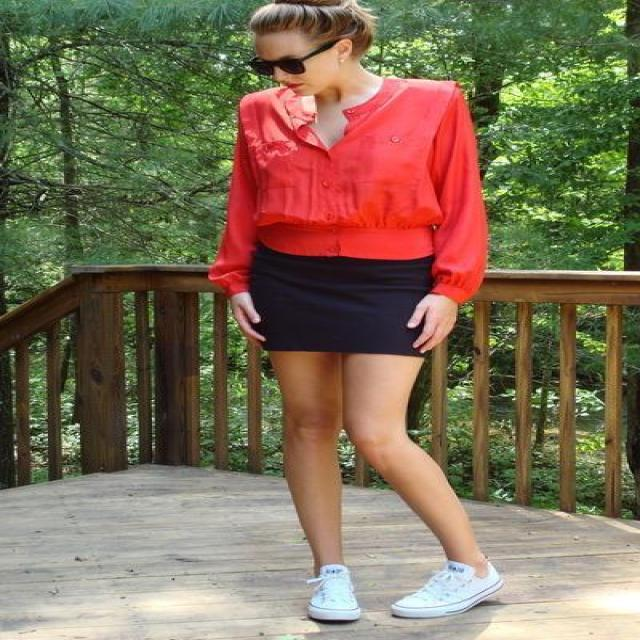jacket: (208, 75, 488, 303)
shoe: (307, 562, 506, 619)
skirt: (245, 243, 438, 370)
sunglass: (250, 52, 315, 76)
